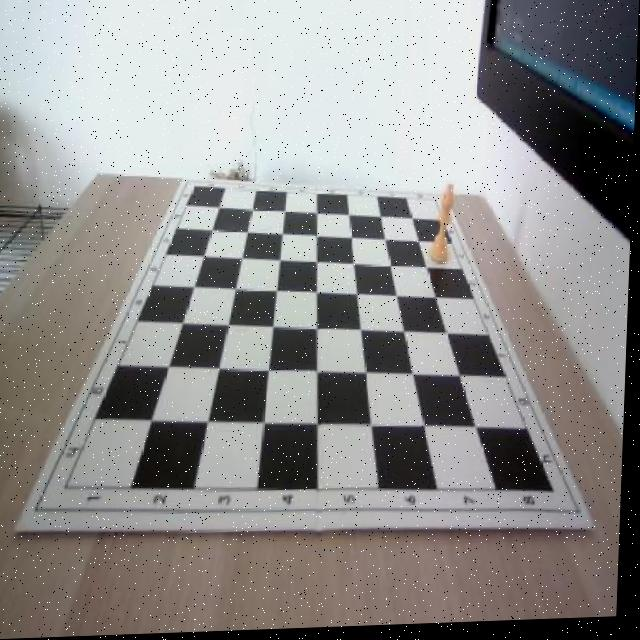black-rook: (431, 187, 457, 268)
